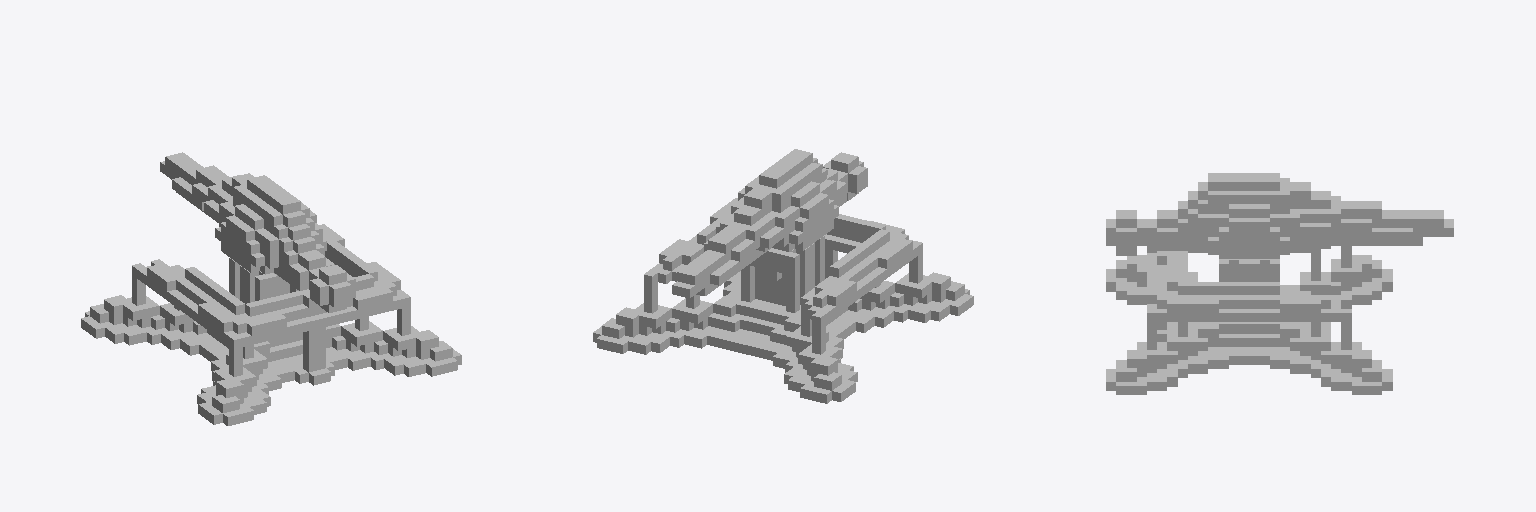
The model's file is Artilleriegeschütz vollständig.obj.
3 views of the same model, side by side, from view 1: azimuth 30°, elevation 25°; view 2: azimuth 150°, elevation 25°; view 3: azimuth 270°, elevation 25° (orthographic).
Visible parts, largest first — view 1: Artilleriegeschütz vollständig; view 2: Artilleriegeschütz vollständig; view 3: Artilleriegeschütz vollständig.
Boxes of the visible parts, <box> form: Artilleriegeschütz vollständig: <box>81,152,461,425</box>; Artilleriegeschütz vollständig: <box>593,149,973,403</box>; Artilleriegeschütz vollständig: <box>1106,173,1453,394</box>.
Size of the model in its own units: 28 by 17 by 34.